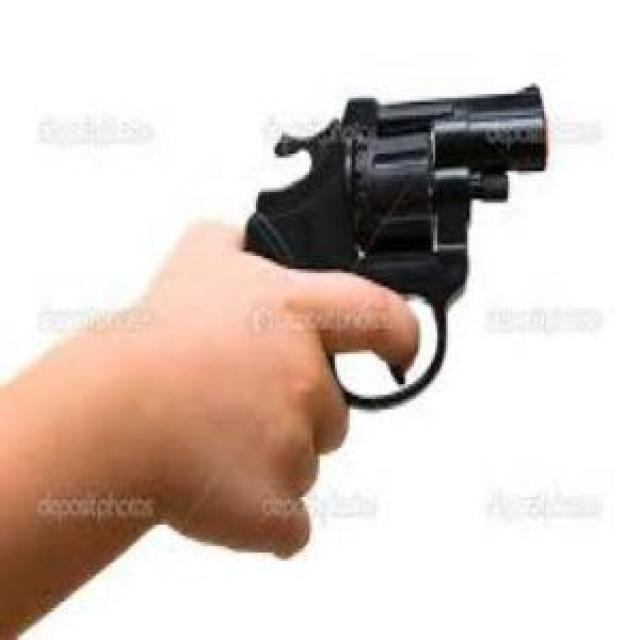pistol: (234, 86, 554, 420)
